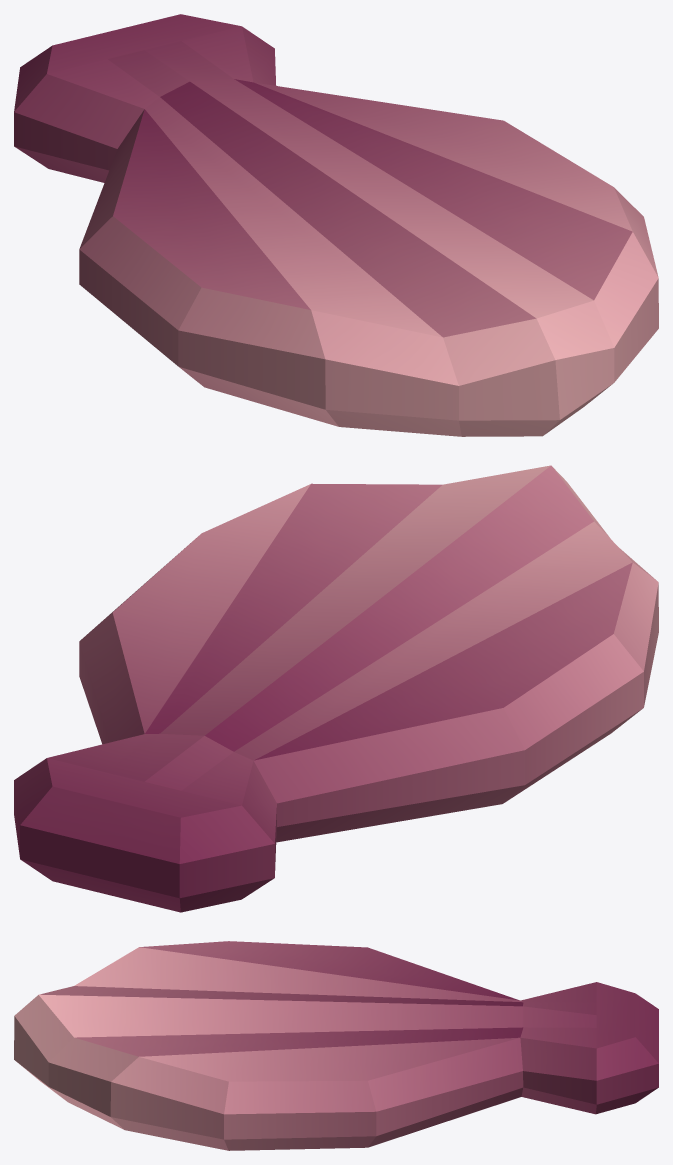
File: Seashell 2.fbx
The picture shows the model from 3 angles, top to bottom: view 1: azimuth 30°, elevation 25°; view 2: azimuth 150°, elevation 25°; view 3: azimuth 270°, elevation 25°; orthographic projection. The views are drawn at different scales.
Parts seen in each view (by area): view 1: pCube1; view 2: pCube1; view 3: pCube1.
Part boxes in pixels (x1,y1,x2,y2): pCube1: (14,14,658,436); pCube1: (14,465,658,912); pCube1: (14,941,658,1150).
Size of the model in its own units: 32.65 by 8.08 by 56.05.
1 material, 1 textured.
